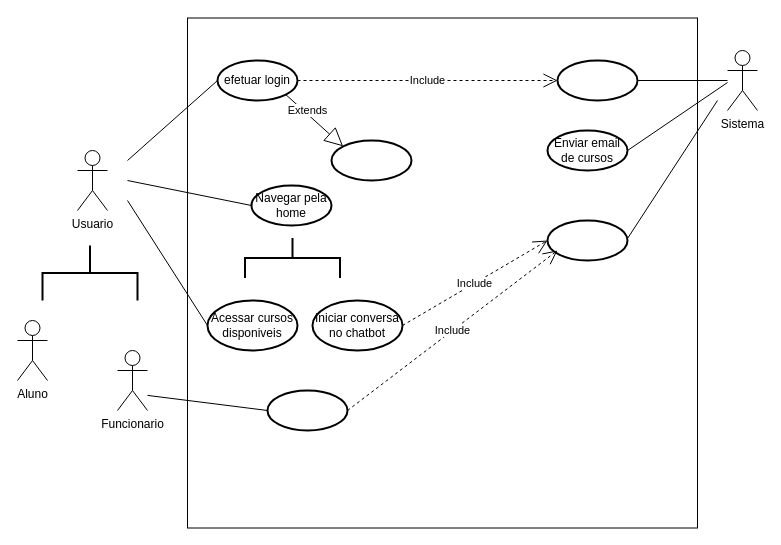
Some shapes in this 781 by 545 pixel diagram are drawn without their labels. The box of each missing label's shape, as (x1, y1, x2, y2) in pixels:
Enviar respostas: (546, 219, 628, 261)
fazer cadastro: (330, 139, 412, 181)
Solicitar documentos: (266, 389, 348, 431)
Verificar senha: (556, 59, 638, 101)
